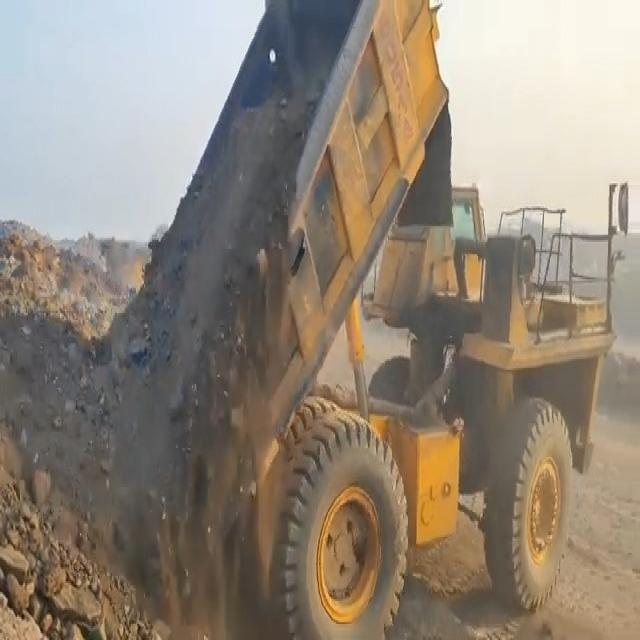dump_truck: (178, 6, 622, 640)
